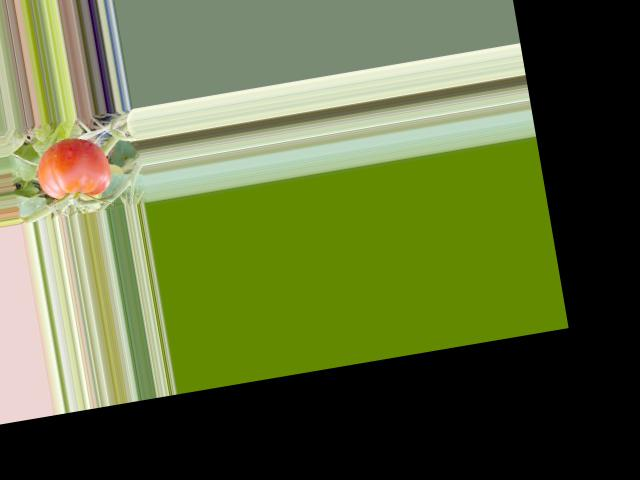tomato: (32, 132, 115, 203)
